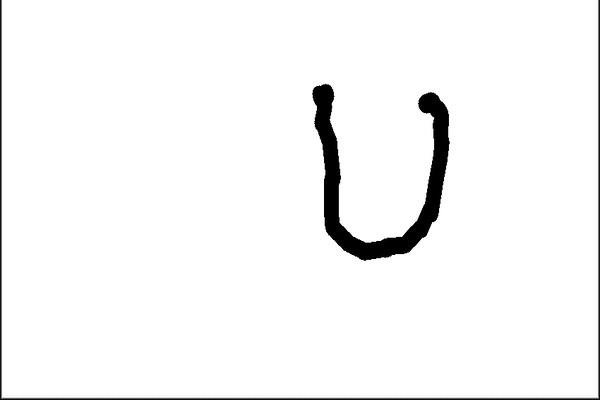U: (297, 70, 456, 262)
